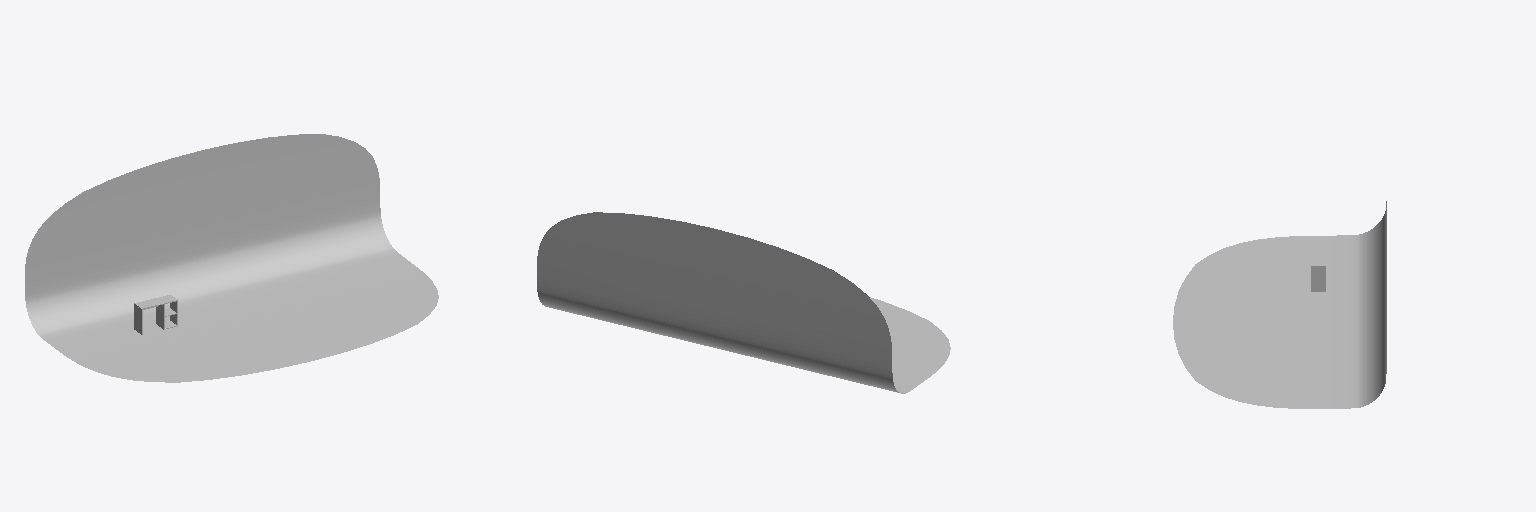
The model's file is ikea kalax desk.obj.
3 renders of one model, left to right at view 1: azimuth 30°, elevation 25°; view 2: azimuth 150°, elevation 25°; view 3: azimuth 270°, elevation 25°, orthographic.
Parts seen in each view (by area): view 1: background; view 2: background; view 3: background.
Boxes of the visible parts, x1=… form: background: x1=25, y1=134, x2=438, y2=382; background: x1=537, y1=212, x2=950, y2=393; background: x1=1173, y1=201, x2=1386, y2=408.
Bounding box in the file's own units: 10.8 × 3.87 × 5.64.